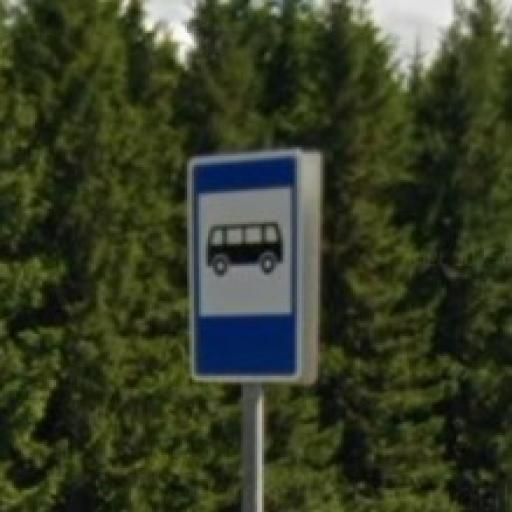traffic_sign: (188, 148, 305, 386)
